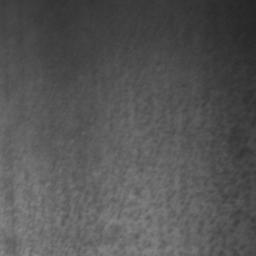Pitted surface: (26, 32, 256, 256), (4, 130, 33, 227), (42, 106, 96, 144), (230, 22, 256, 48), (227, 0, 253, 17), (110, 109, 128, 131), (5, 236, 17, 254), (48, 0, 68, 8)
